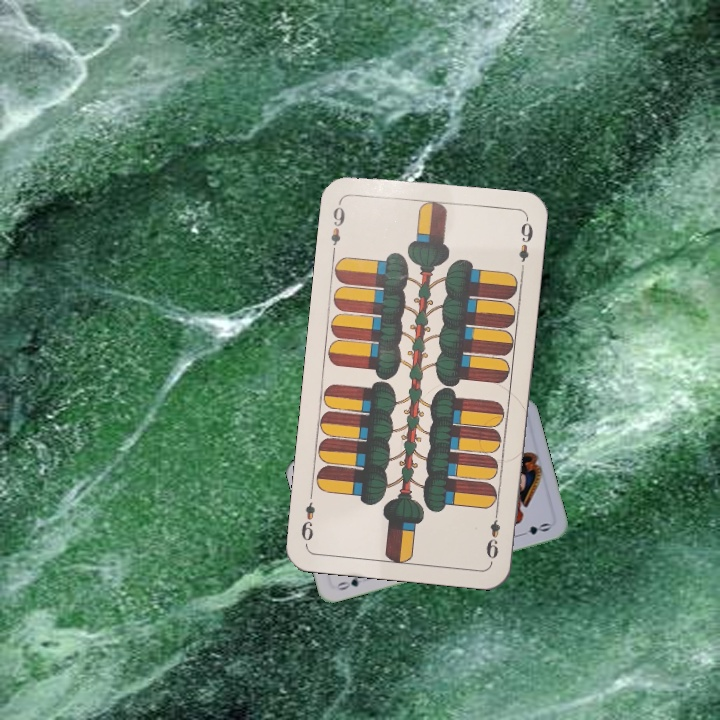E9: (326, 198, 348, 257), (482, 505, 503, 561)
GO: (332, 571, 371, 593)
